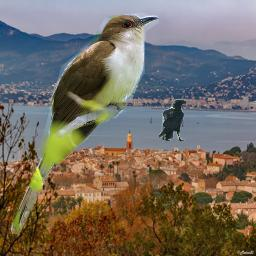Crow: (158, 99, 187, 141)
Cuckoo: (9, 12, 159, 235)
